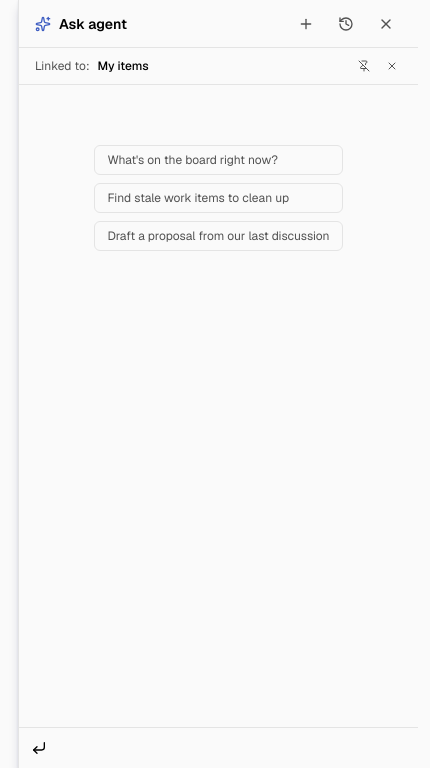
Test: AgentChatPanel › opens the Sessions switcher and loads the org's past sessions
This screenshot has width=430, height=768.
Click the button named "Sessions" at (346, 24), box [330,8,362,40]
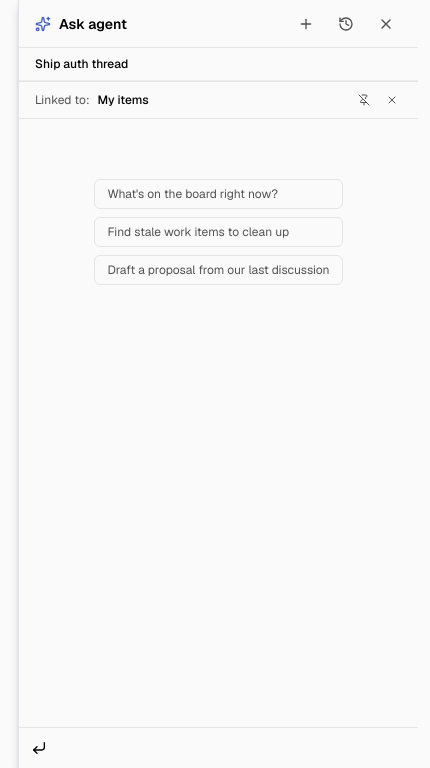
Result: the text "Ship auth thread" is shown at [35,56,128,72]
